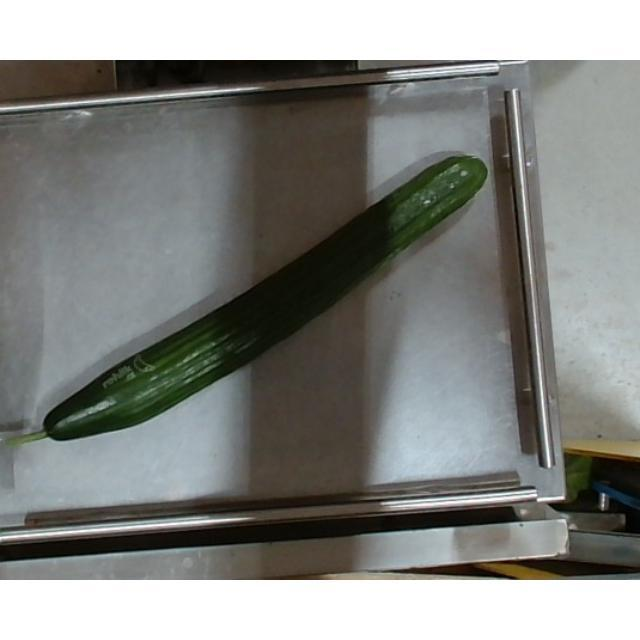cucumber: (27, 147, 486, 441)
